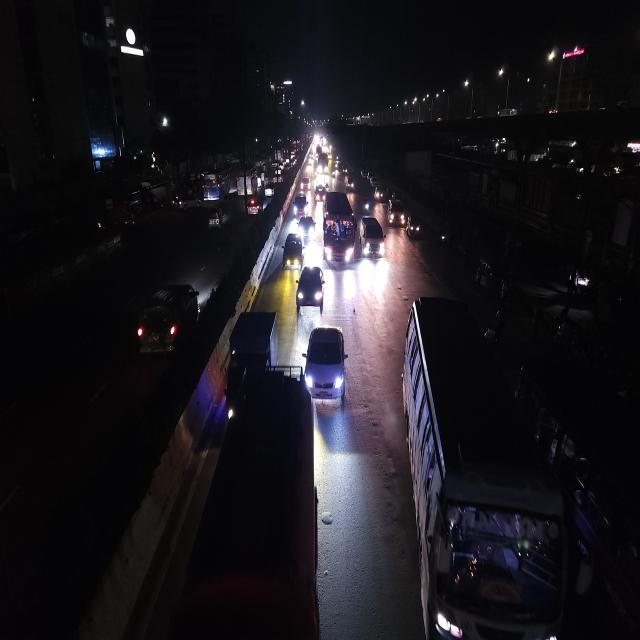bus: (403, 296, 561, 640), (321, 188, 357, 272), (200, 169, 232, 203), (235, 167, 256, 197), (317, 154, 330, 177)
car: (134, 278, 202, 365), (301, 321, 349, 413), (296, 262, 325, 315), (358, 212, 386, 262), (281, 230, 303, 272), (386, 195, 406, 230), (297, 212, 317, 245), (292, 191, 310, 220), (246, 193, 262, 218), (314, 183, 327, 204), (263, 183, 275, 199), (300, 175, 310, 193)
cng: (404, 210, 424, 243), (207, 205, 224, 232), (374, 183, 384, 203)
motorcycle: (346, 174, 356, 192)
truck: (222, 307, 278, 423)
